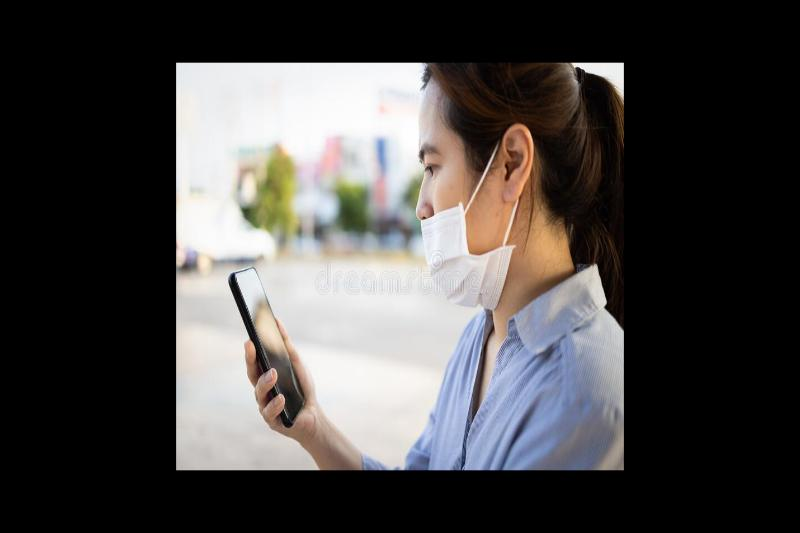mask_weared_incorrect: (412, 116, 506, 313)
